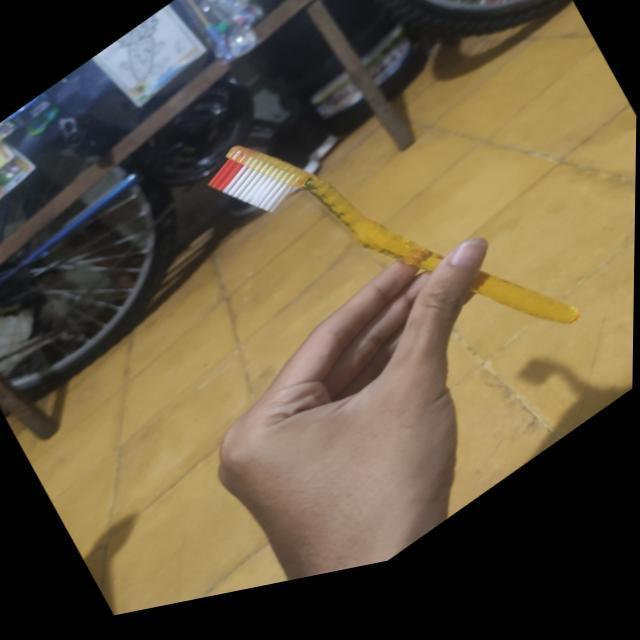toothbrush: (160, 0, 640, 544)
